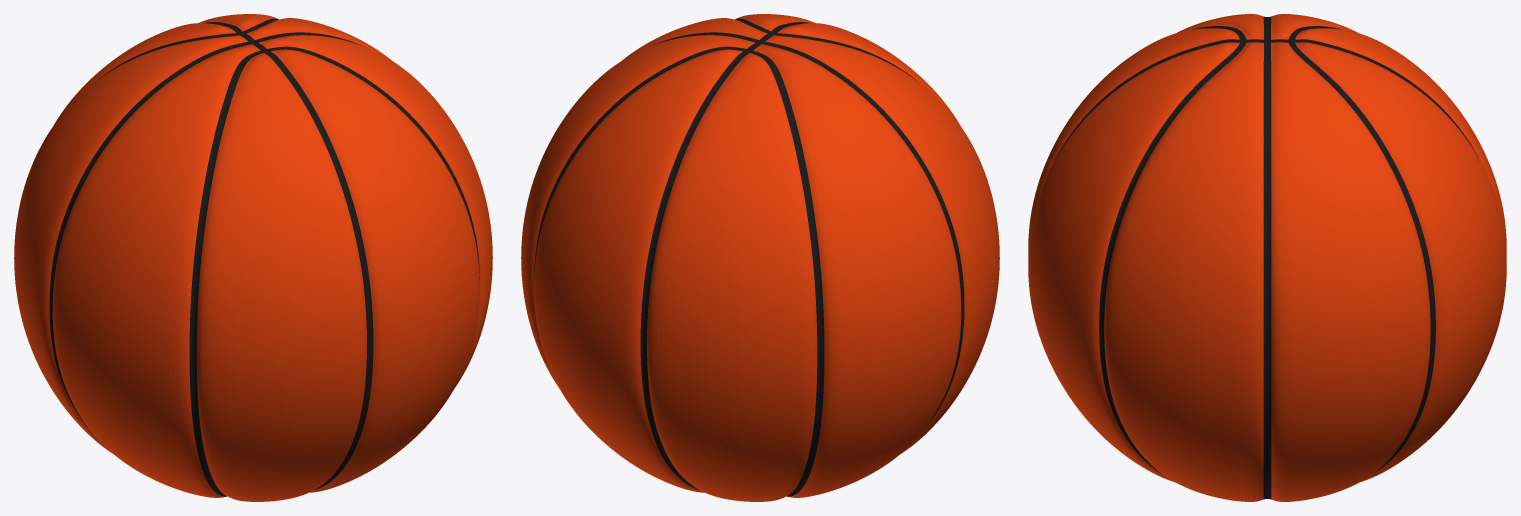
Rendered from basketball.glb.
3 views of the same model, side by side, from view 1: azimuth 30°, elevation 25°; view 2: azimuth 150°, elevation 25°; view 3: azimuth 270°, elevation 25° (orthographic).
Parts seen in each view (by area): view 1: Basketball; view 2: Basketball; view 3: Basketball.
Part boxes in pixels (x1,y1,x2,y2): Basketball: (14,14,492,501); Basketball: (521,14,999,501); Basketball: (1028,14,1506,501).
Bounding box in the file's own units: 1.93 × 1.96 × 1.93.
